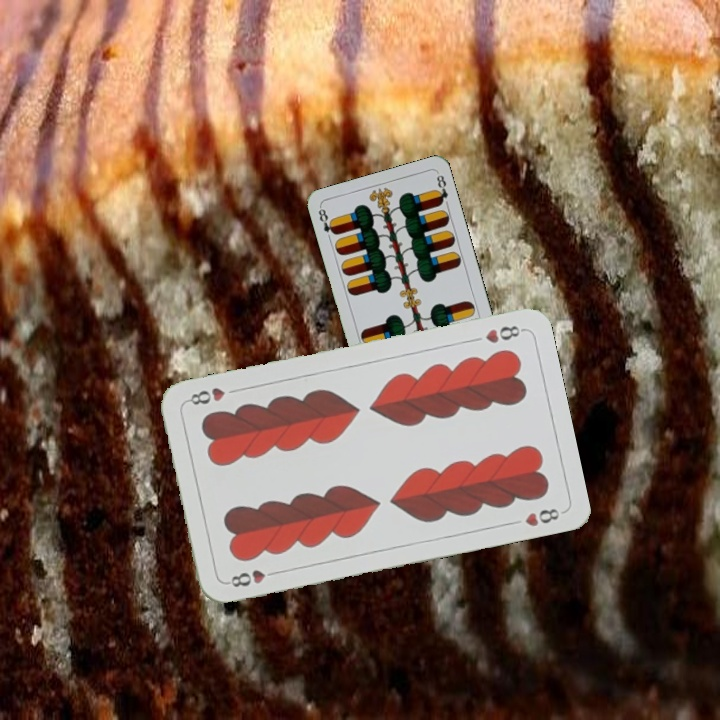E8: (314, 204, 339, 237)
H8: (222, 565, 281, 590), (481, 321, 526, 346)
